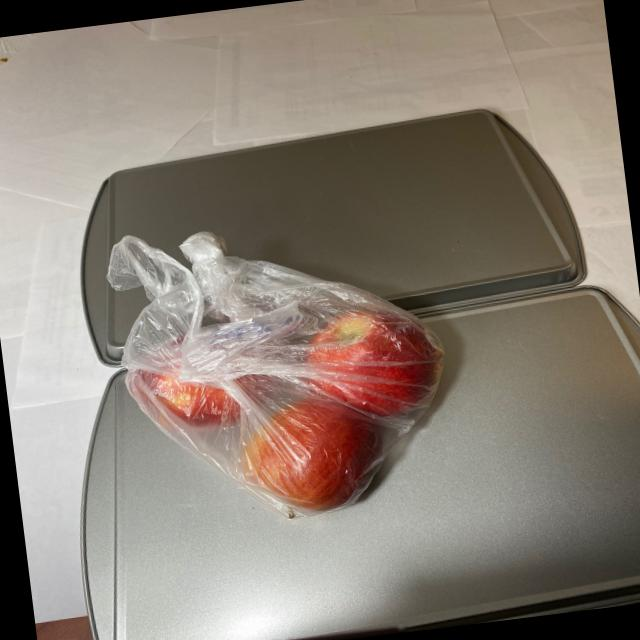apple: (119, 298, 472, 540)
